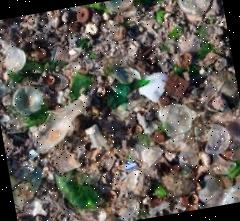glass: (11, 58, 172, 220)
